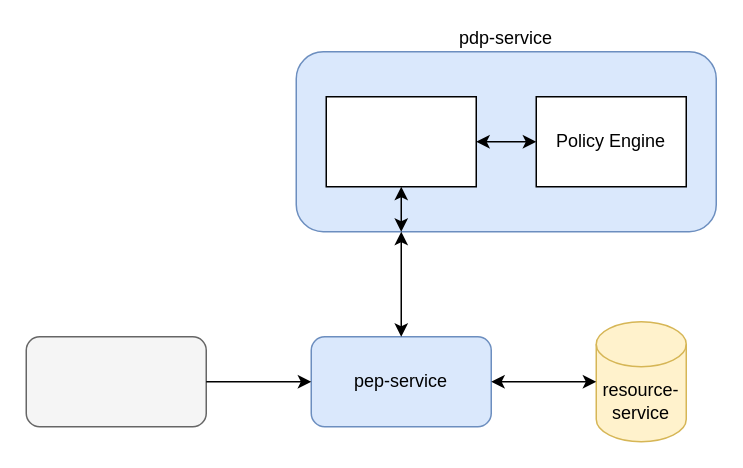
This 743x468 diagram has some shape labels left out. The shapes that lost their labels are listed below. From the top down, each one's centre as x and y in pixels, then its label:
At (400,141): "Policy Administrator".
At (115,381): "client-app".
